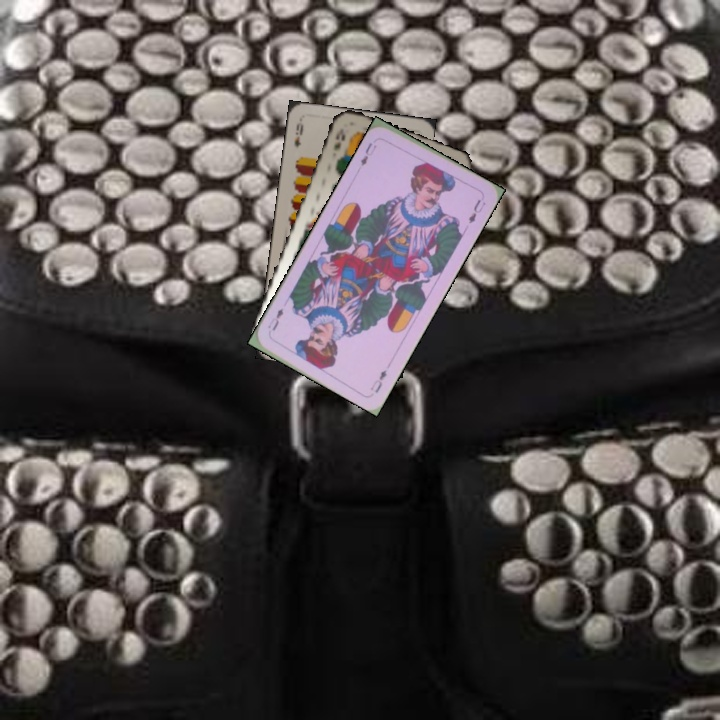E9: (290, 118, 306, 150)
EK: (329, 124, 348, 153)
EU: (366, 365, 390, 396), (356, 139, 379, 169)
